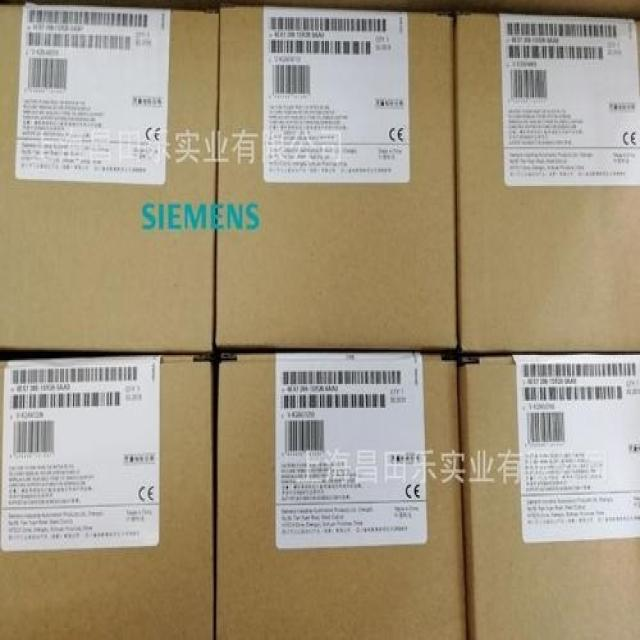box: (215, 6, 458, 350), (0, 3, 219, 351), (215, 353, 466, 638), (455, 13, 639, 353), (0, 354, 214, 638), (460, 353, 639, 637)
